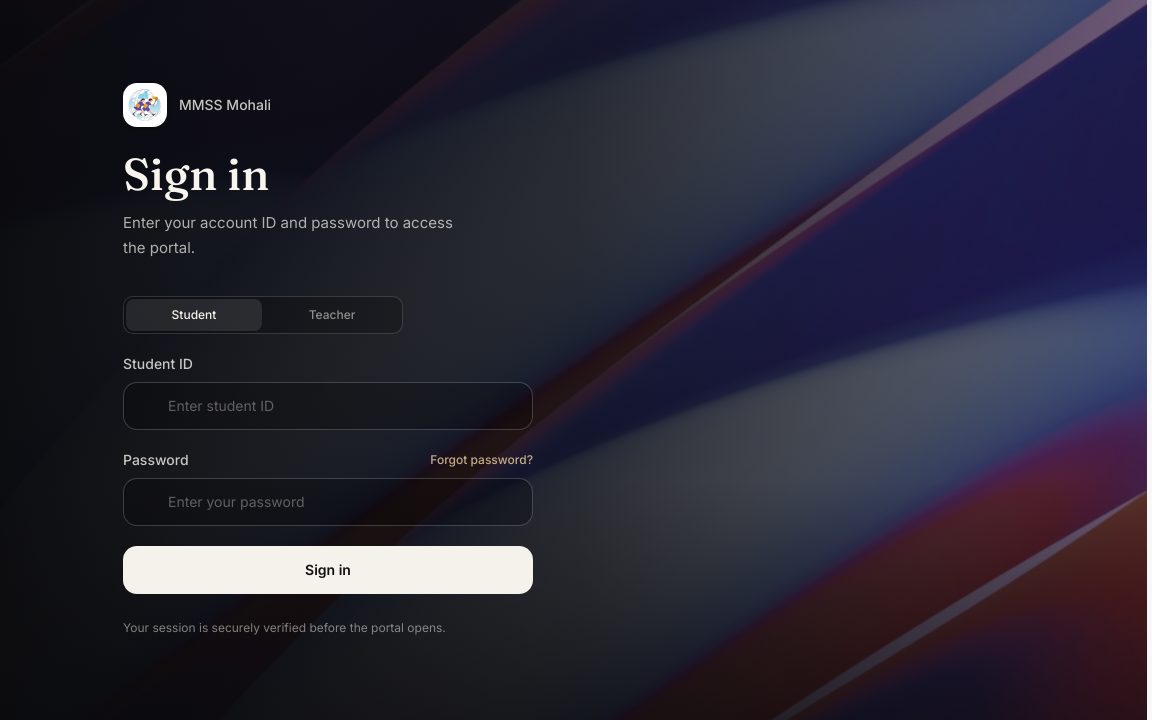
Test case: LoginPage › switches cleanly to teacher authentication
Click the tab "Teacher".
click(332, 315)  # box x1=264 y1=299 x2=400 y2=331
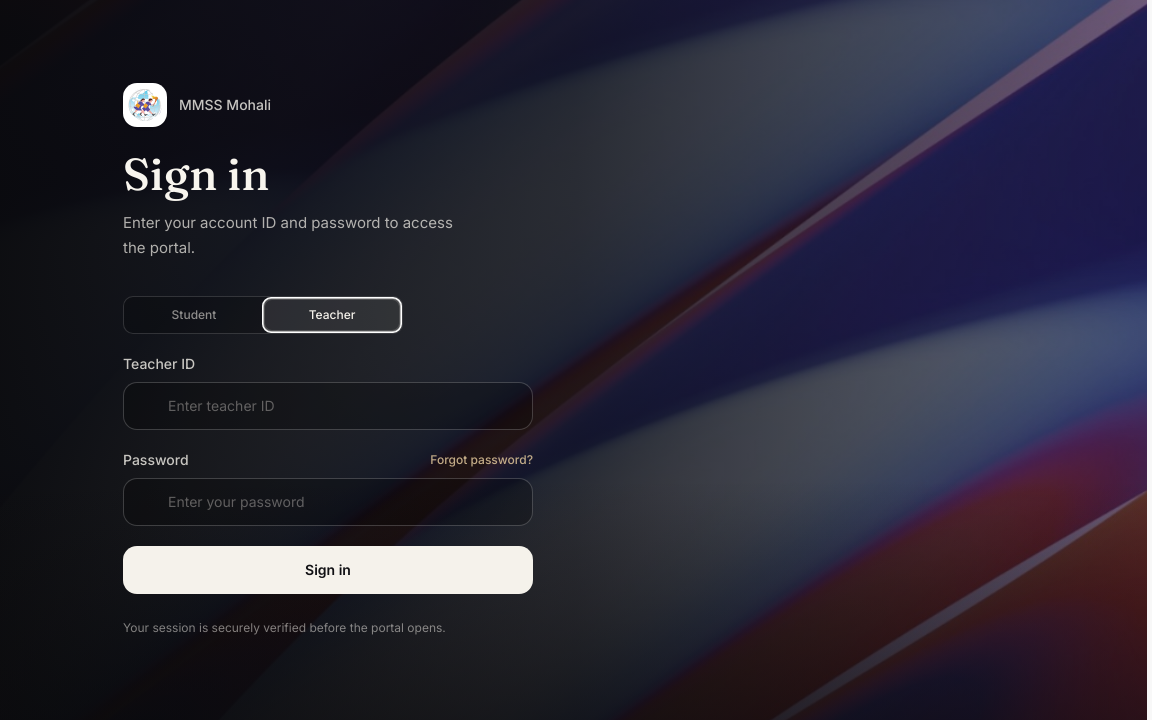
expect the field labelled "Teacher ID" is shown: met, box x1=123 y1=382 x2=533 y2=430
